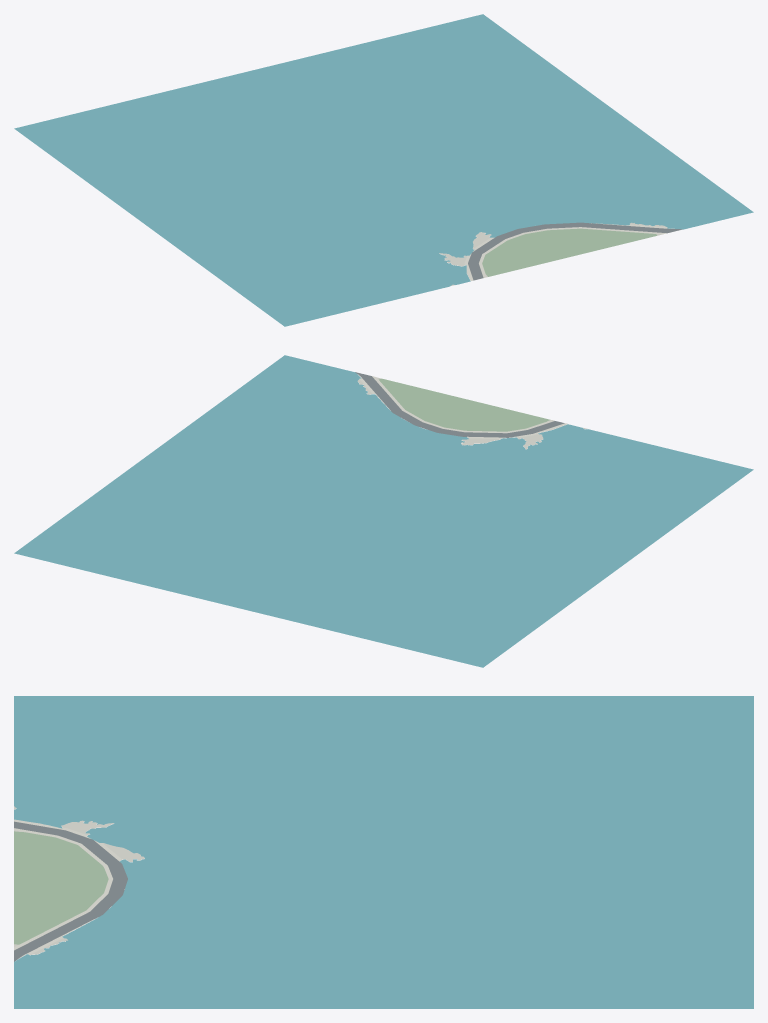
3 renders of one model, top to bottom at view 1: azimuth 30°, elevation 25°; view 2: azimuth 150°, elevation 25°; view 3: azimuth 270°, elevation 25°, orthographic. The views are drawn at different scales.
Visible parts, largest first — view 1: city; view 2: city; view 3: city.
Part boxes in pixels (left/top/right/bottom): city: left=14, top=14, right=753, bottom=326; city: left=14, top=355, right=753, bottom=667; city: left=14, top=696, right=753, bottom=1008.
Bounding box in the file's own units: 500 × 0.4 × 500.
